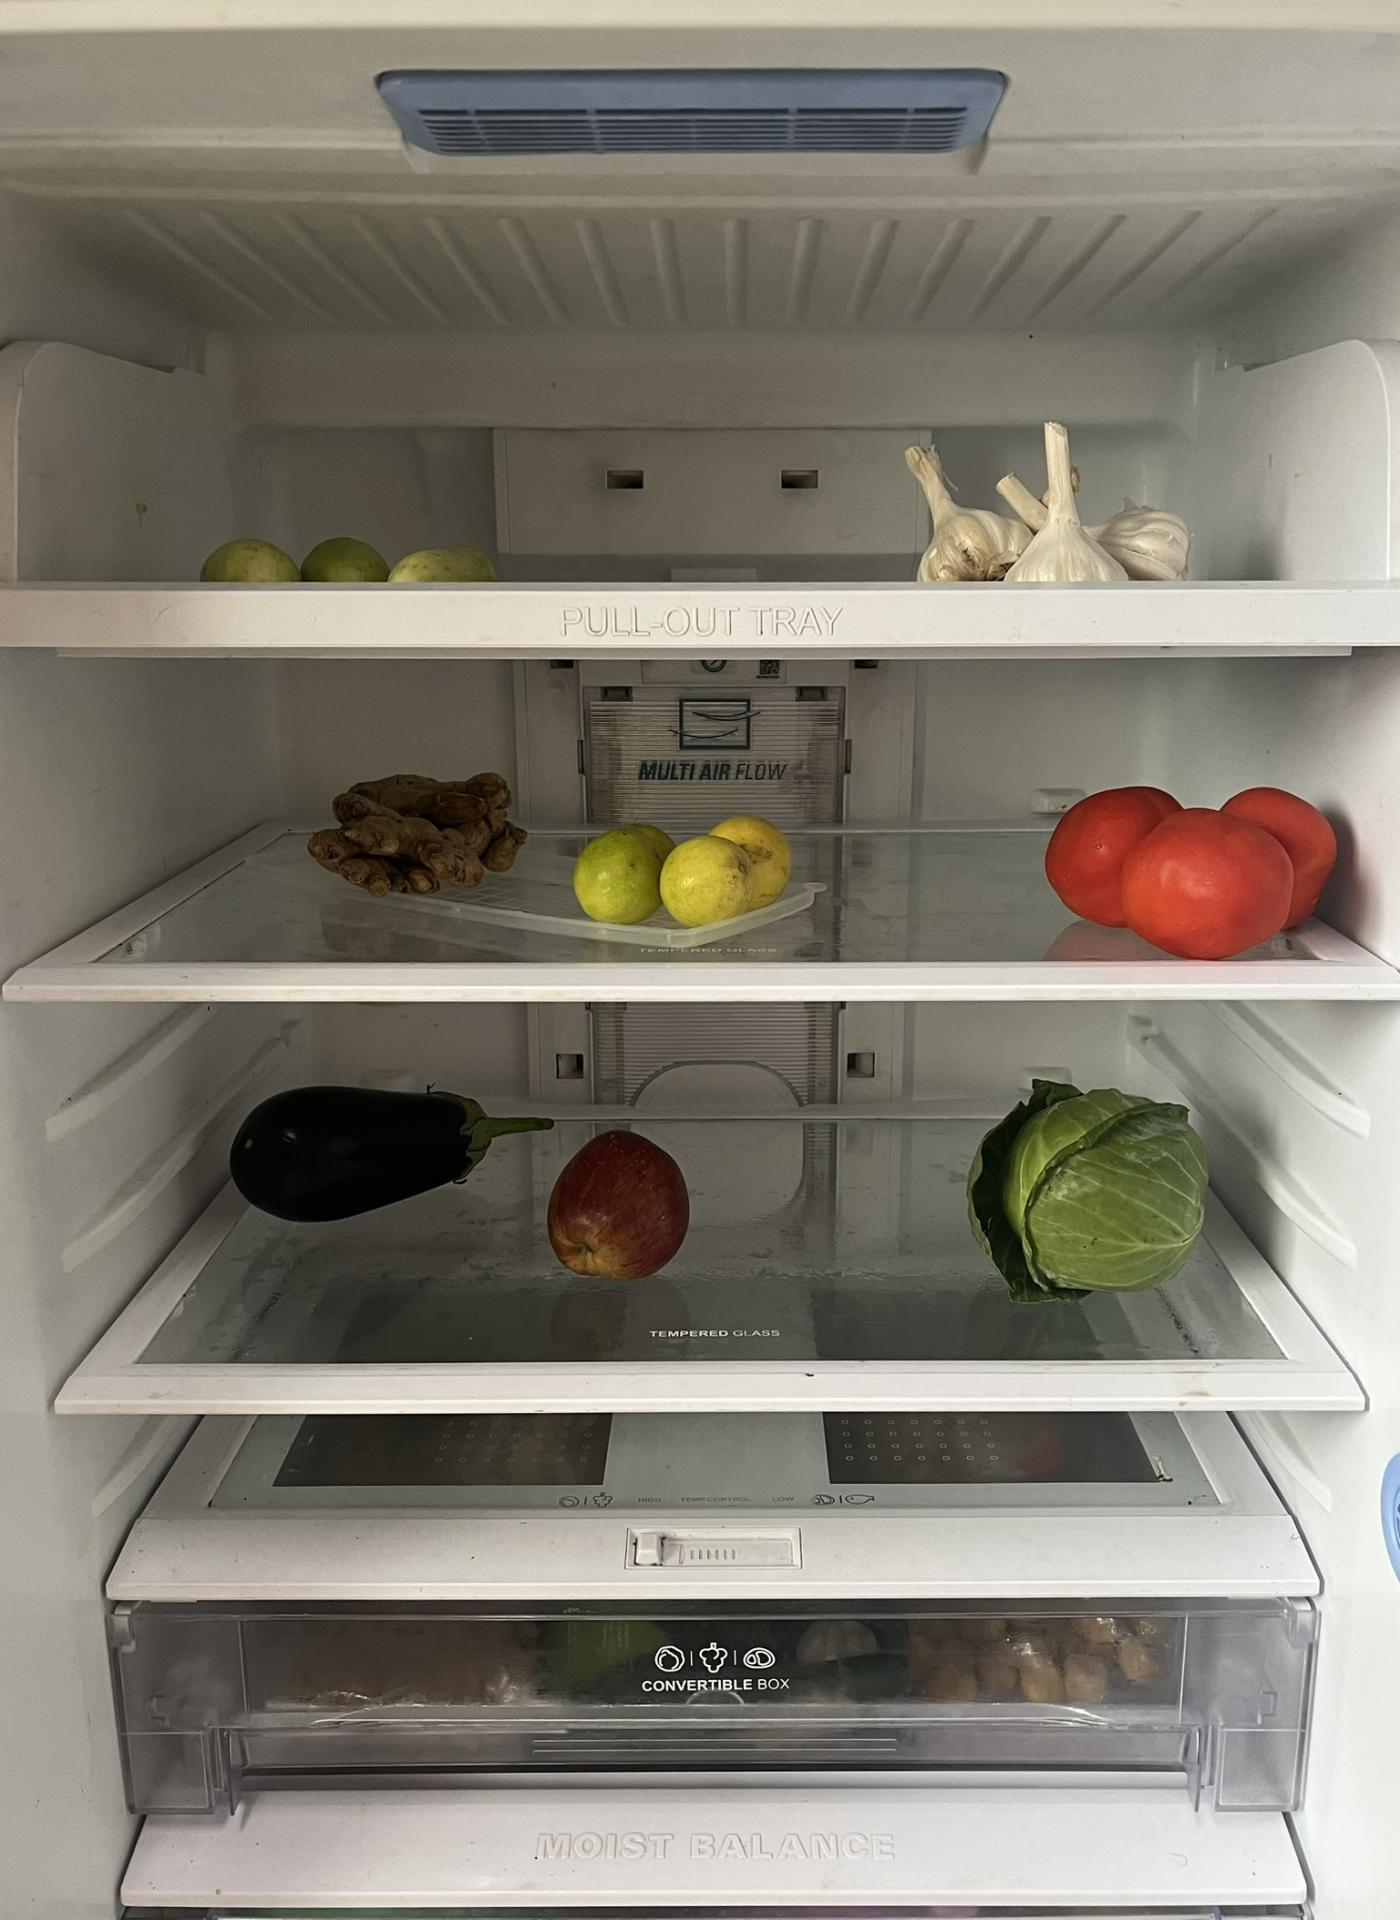apple: (540, 1127, 689, 1285)
cabbage: (965, 1073, 1215, 1303)
cucumber: (198, 529, 501, 584)
garlic: (893, 425, 1206, 578)
ginger: (306, 769, 534, 903)
lemon: (571, 817, 795, 923)
tomato: (1042, 783, 1339, 961)
